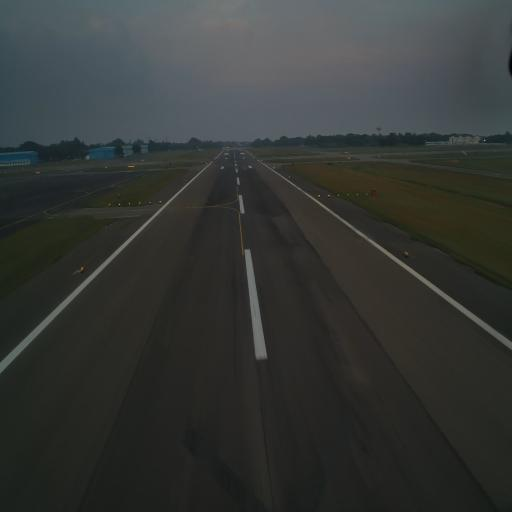on: (80, 263, 85, 272), (404, 249, 408, 258), (118, 202, 122, 208), (328, 193, 331, 199), (148, 200, 152, 204), (158, 200, 162, 204), (128, 202, 131, 207), (318, 194, 321, 199), (108, 203, 111, 207), (337, 192, 340, 196), (346, 193, 349, 197), (356, 192, 359, 196), (139, 201, 141, 205), (366, 192, 368, 196)
